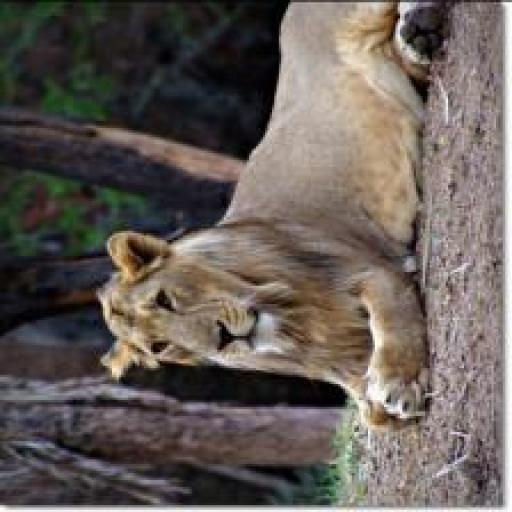lion: (82, 4, 452, 446)
